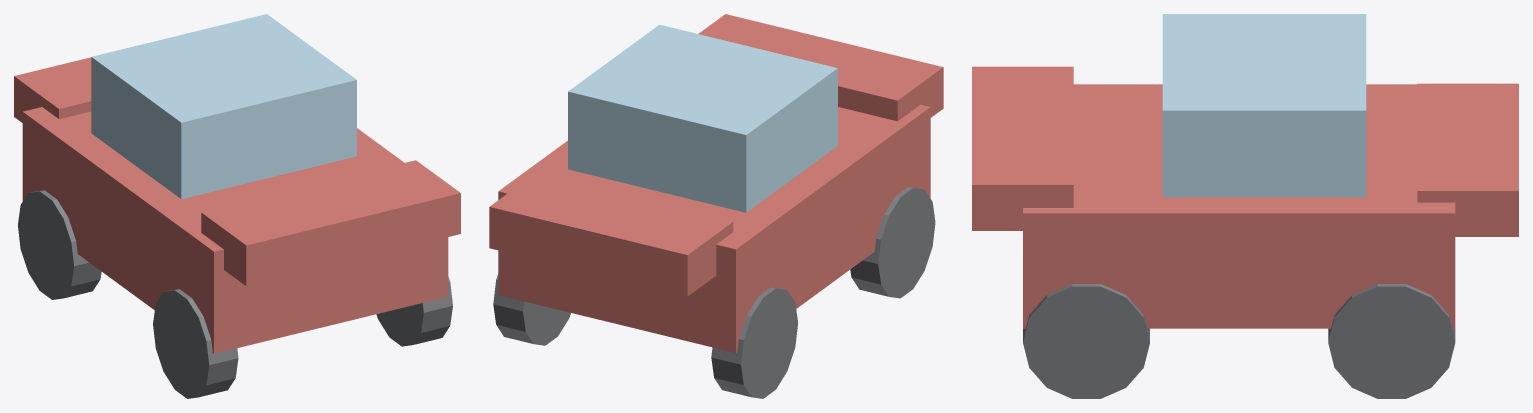
The model's file is car.glb.
The picture shows the model from 3 angles, left to right: view 1: azimuth 30°, elevation 25°; view 2: azimuth 150°, elevation 25°; view 3: azimuth 270°, elevation 25°; orthographic projection. The views are drawn at different scales.
Visible parts, largest first — view 1: body, cabin, hood, wheel_0, wheel_2, trunk, wheel_1; view 2: body, cabin, trunk, hood, wheel_2, wheel_0, wheel_3; view 3: body, cabin, hood, trunk, wheel_3, wheel_1.
Boxes of the visible parts, x1,y1,x2,y2 form: body: [22, 107, 448, 353]; cabin: [91, 14, 356, 199]; hood: [201, 160, 460, 286]; wheel_0: [153, 289, 238, 398]; wheel_2: [18, 190, 101, 299]; trunk: [14, 57, 91, 122]; wheel_1: [376, 276, 452, 346]; body: [498, 104, 930, 352]; cabin: [568, 24, 837, 212]; trunk: [489, 173, 733, 296]; hood: [698, 14, 943, 121]; wheel_2: [711, 287, 797, 398]; wheel_0: [850, 187, 935, 298]; wheel_3: [493, 274, 570, 345]; body: [1023, 84, 1455, 328]; cabin: [1162, 14, 1366, 197]; hood: [972, 66, 1073, 230]; trunk: [1417, 83, 1518, 236]; wheel_3: [1328, 284, 1455, 398]; wheel_1: [1023, 284, 1149, 398].
Bounding box in the file's own units: 0.25 × 0.2337 × 0.43.
